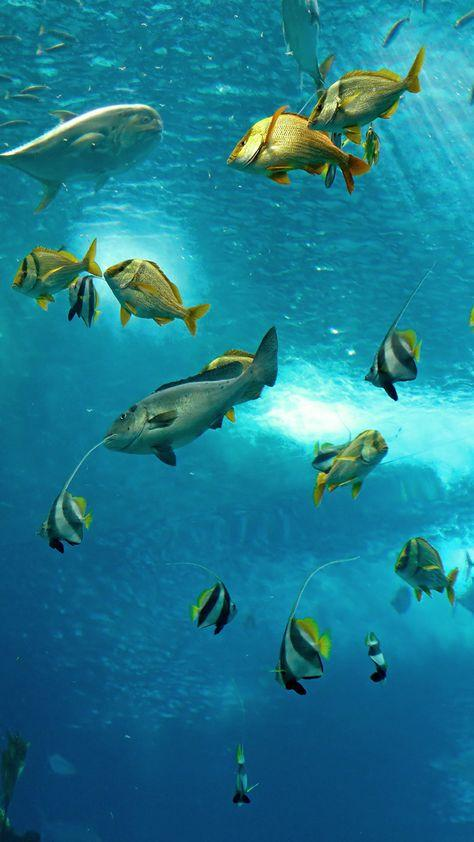fish: (105, 326, 278, 466), (0, 104, 162, 214), (227, 104, 370, 195), (275, 556, 363, 695), (308, 48, 425, 144), (364, 263, 439, 401), (35, 434, 117, 554), (105, 259, 210, 336), (12, 237, 100, 310), (313, 429, 389, 508), (166, 563, 238, 637), (281, 0, 335, 91), (394, 537, 458, 607), (66, 274, 105, 328), (232, 743, 260, 809), (383, 13, 413, 48), (367, 632, 387, 682), (364, 127, 381, 166), (46, 755, 78, 775), (453, 11, 474, 28)
